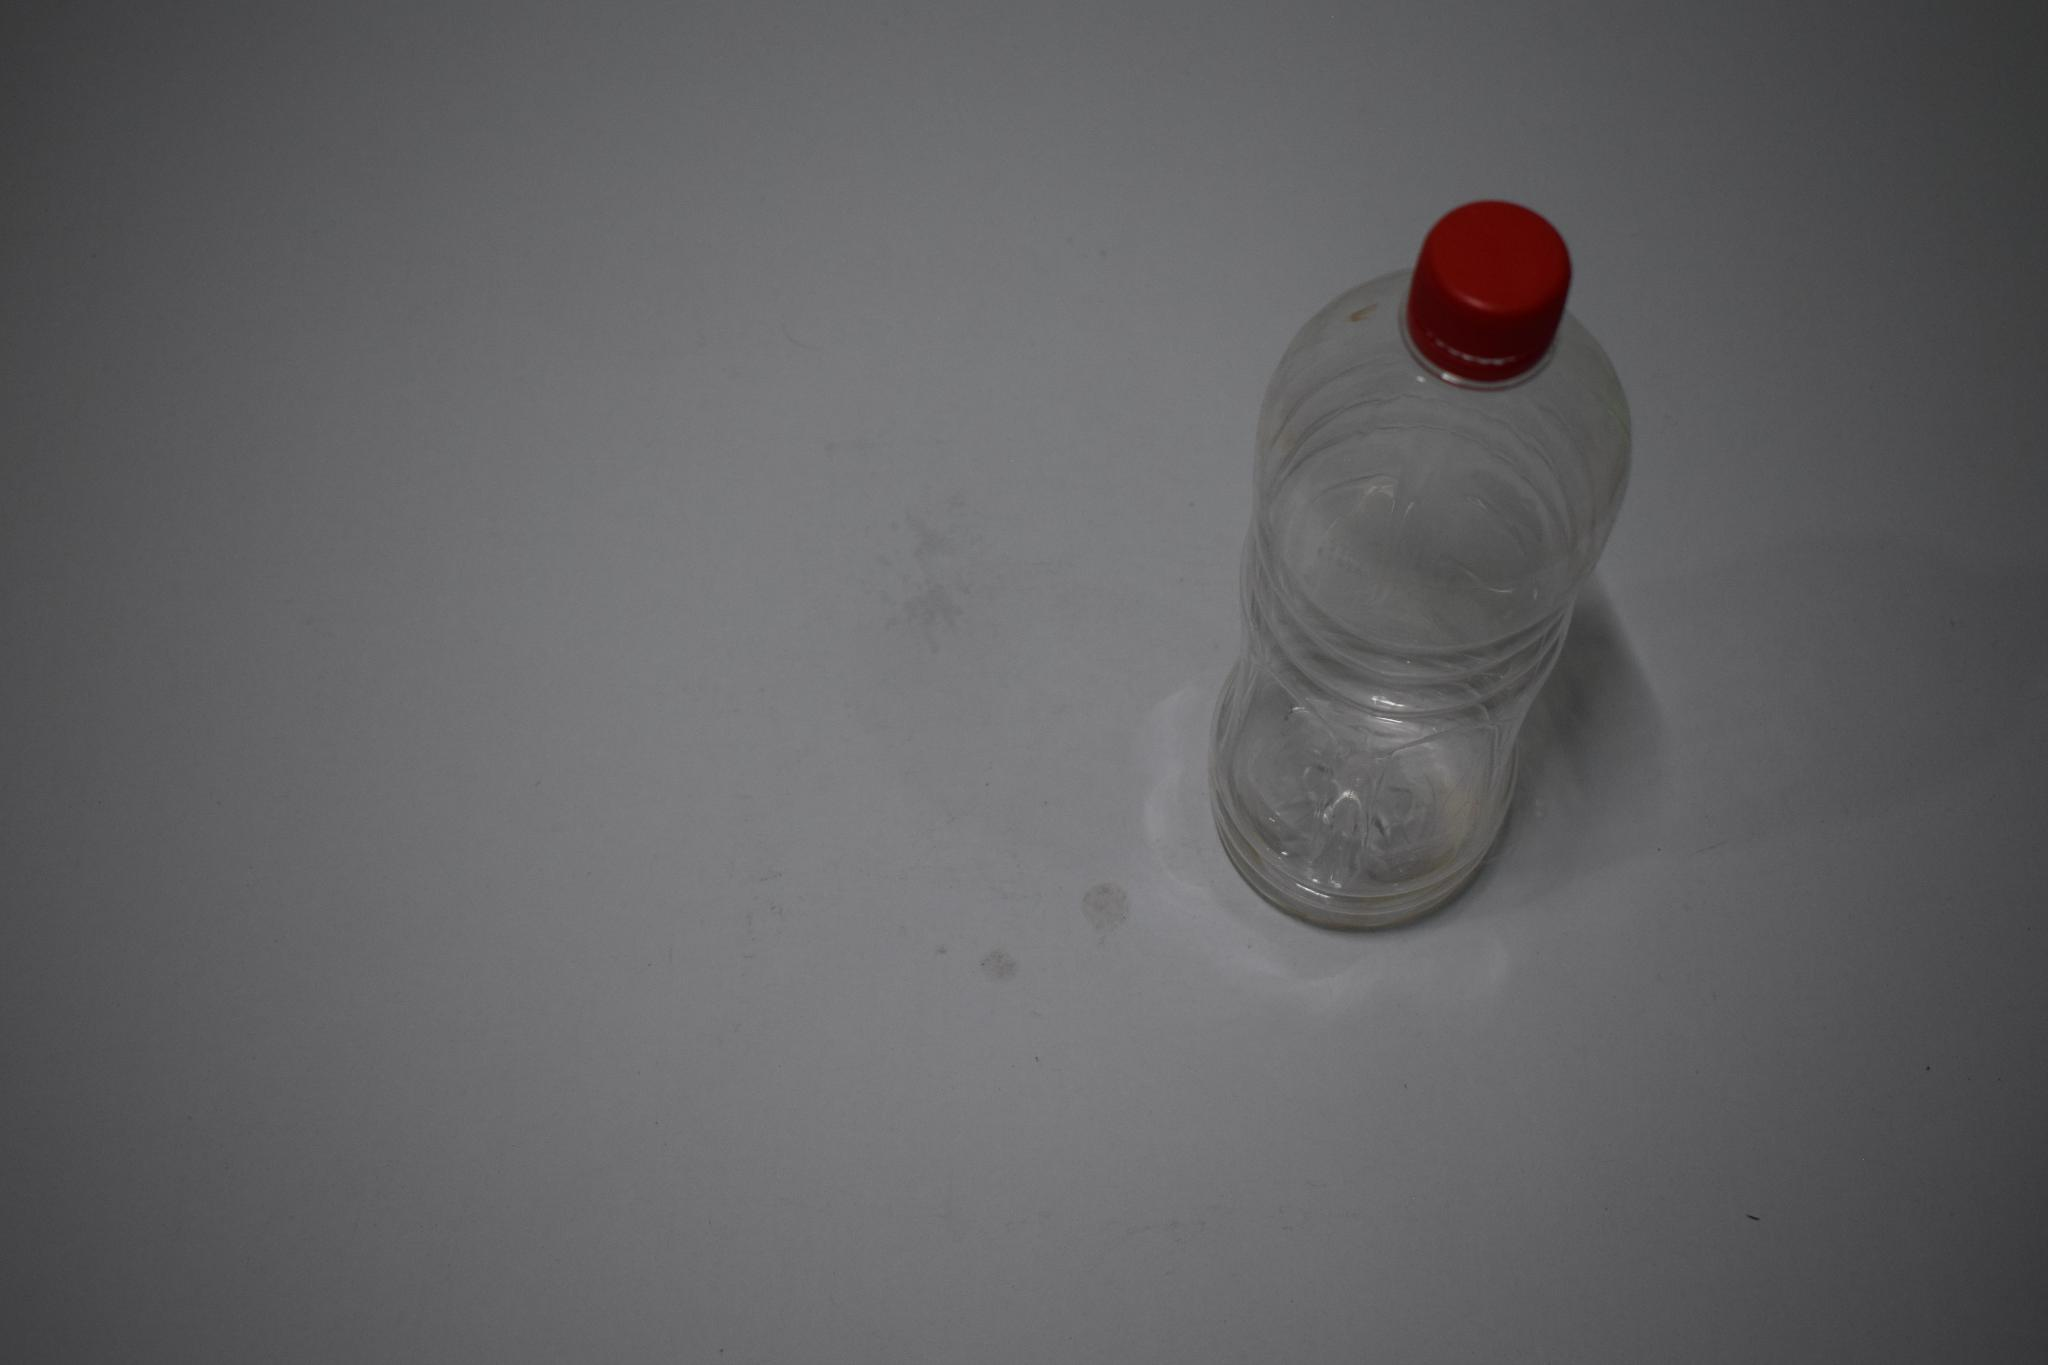bottle: (1207, 178, 1637, 949)
